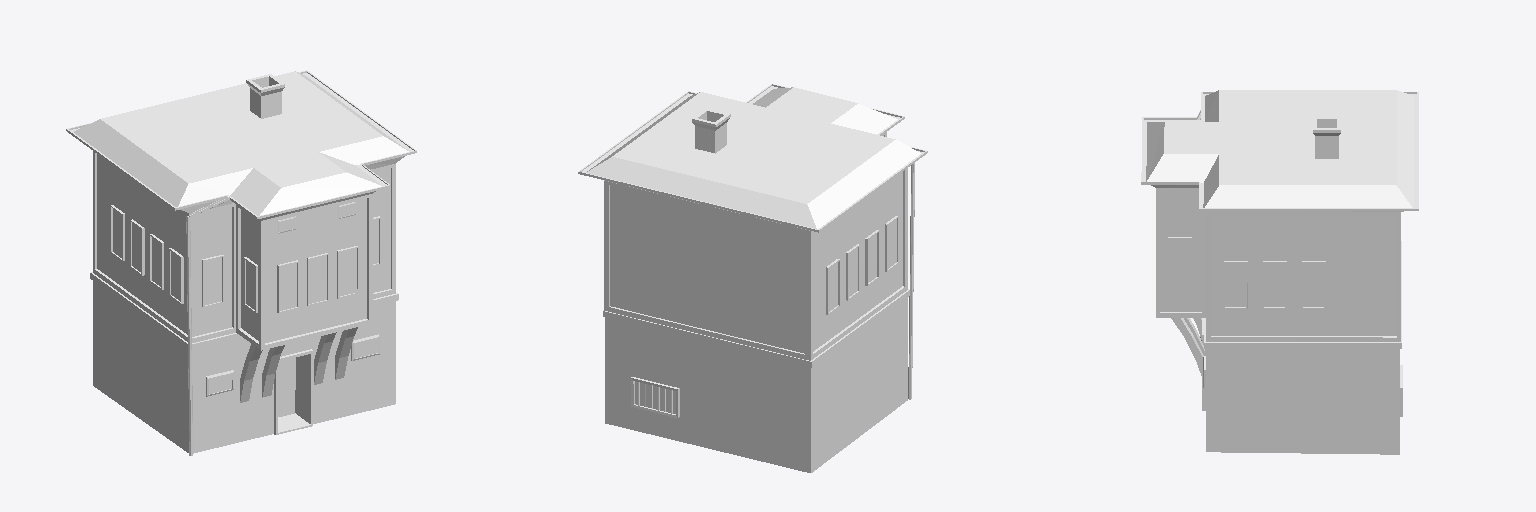
Rendered from ThreeJSExample.obj.
3 renders of one model, left to right at view 1: azimuth 30°, elevation 25°; view 2: azimuth 150°, elevation 25°; view 3: azimuth 270°, elevation 25°, orthographic.
Visible parts, largest first — view 1: city_house_2; view 2: city_house_2; view 3: city_house_2.
Part boxes in pixels (bbox=[...]): city_house_2: bbox=[66, 70, 416, 455]; city_house_2: bbox=[578, 84, 927, 472]; city_house_2: bbox=[1141, 90, 1418, 454].
Size of the model in its own units: 402 by 474 by 401.